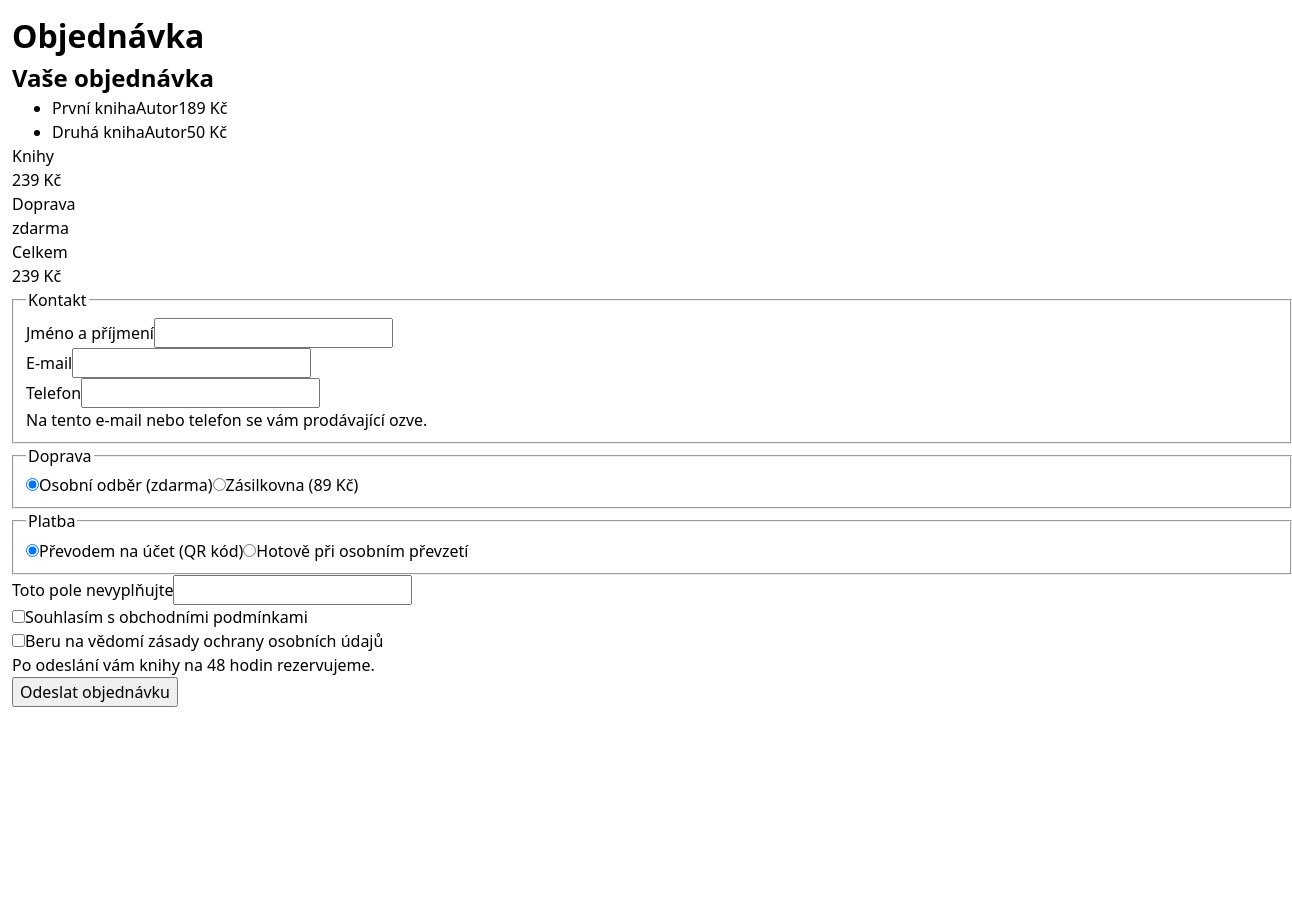
CheckoutForm › adds the Zásilkovna flat rate and asks for the pickup point
Expected: the text "První kniha" is shown, [52, 97, 136, 119]
Expected: the field labelled "Výdejní místo Zásilkovny" is not shown
Click the radio button labelled "Zásilkovna (89 Kč)" at x=219, y=485, box [212, 478, 226, 491]
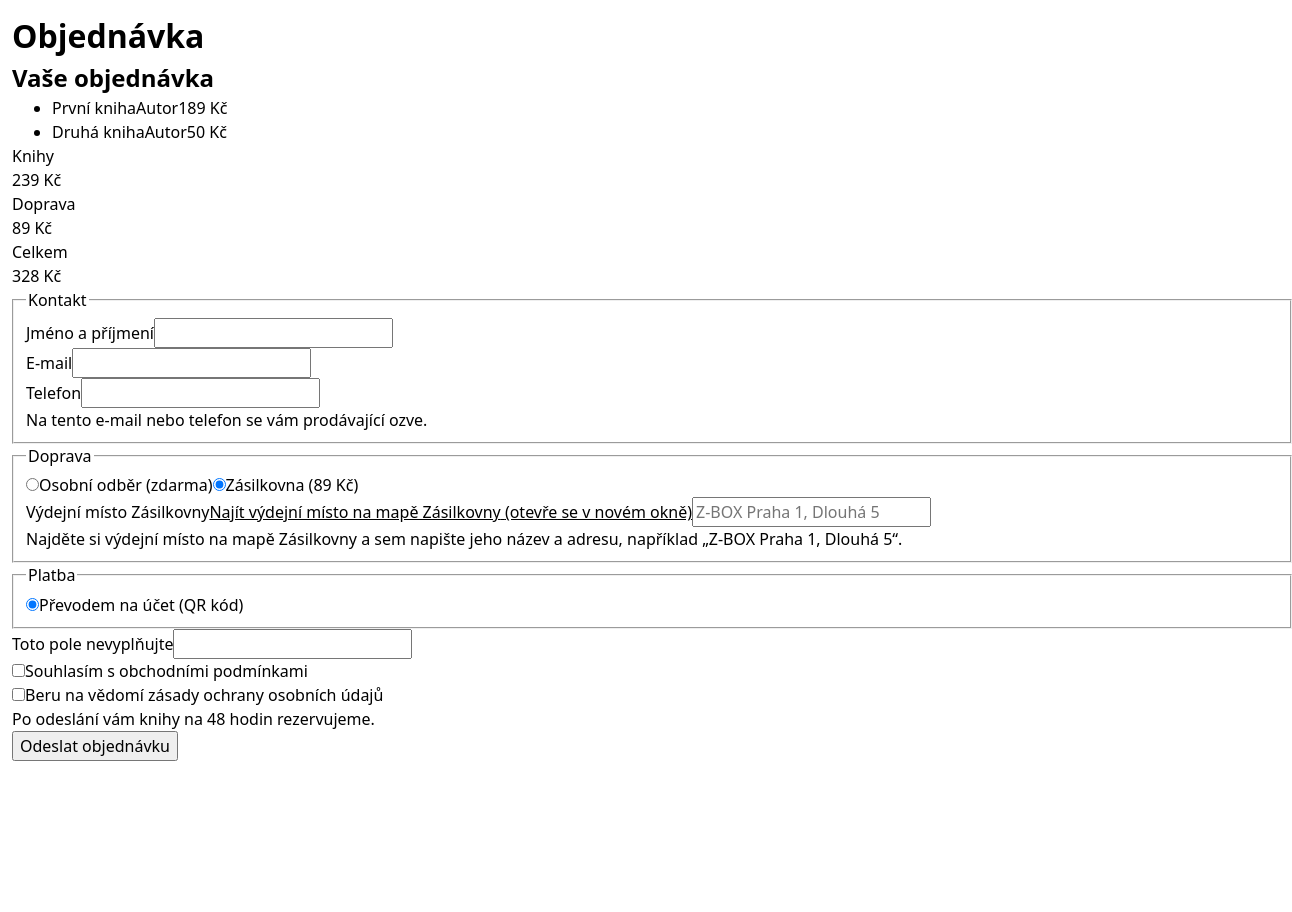
Now the field labelled "Výdejní místo Zásilkovny" is shown, box [692, 497, 931, 527]
Now the text "89 Kč" is shown, box [12, 217, 52, 239]
Now the text "328 Kč" is shown, box [12, 265, 61, 287]
